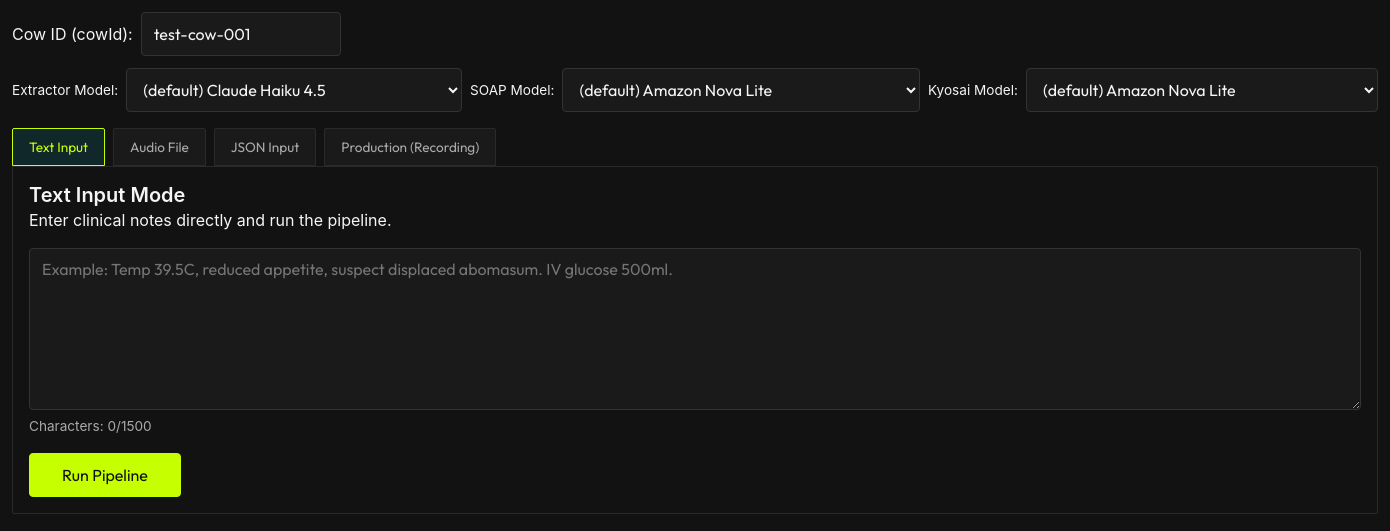
Test case: PipelineEntryForm component › validation errors › displays validation error for unselected audio file
The width and height of the screenshot is (1390, 531).
Switch to audio file tab
What coordinates should you click on to do the following:
click the tab "Audio File"
I would click on:
 (160, 147)
Its box is [113,128,206,166].
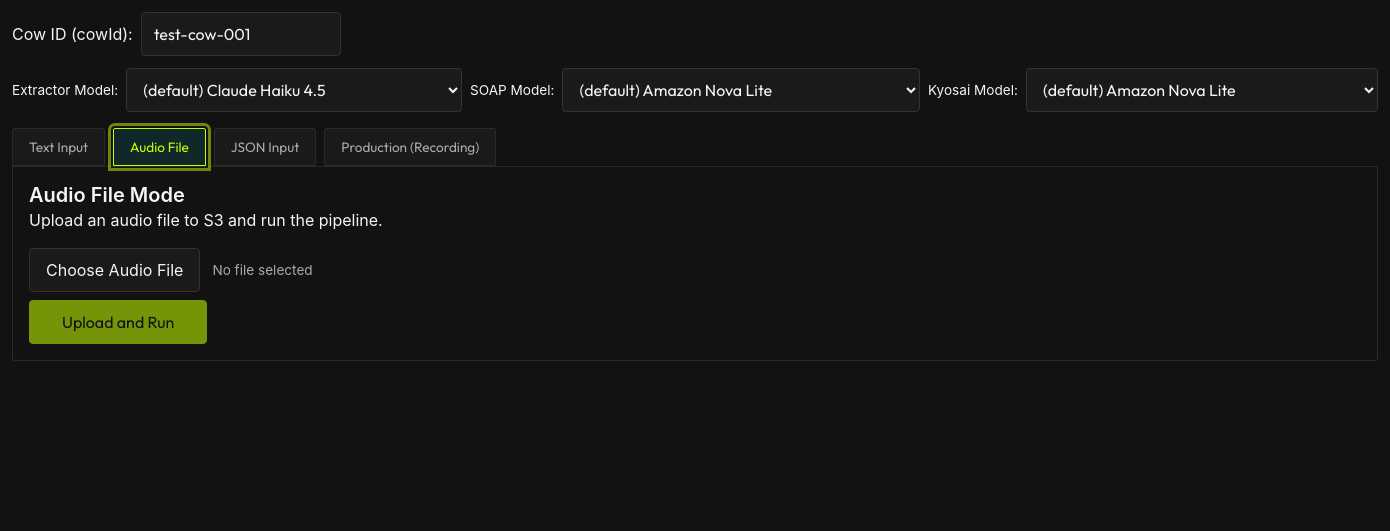
Result: the button "Upload and Run" is disabled at [29,300,207,344]
